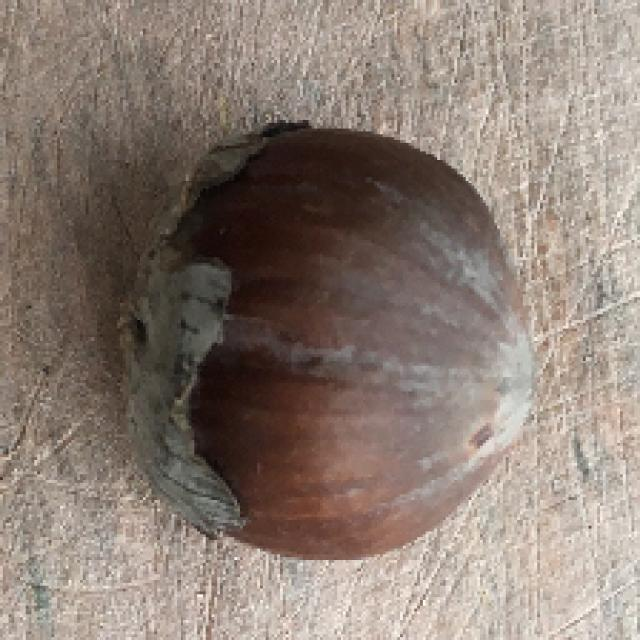damagedHazelnut: (108, 112, 546, 570)
